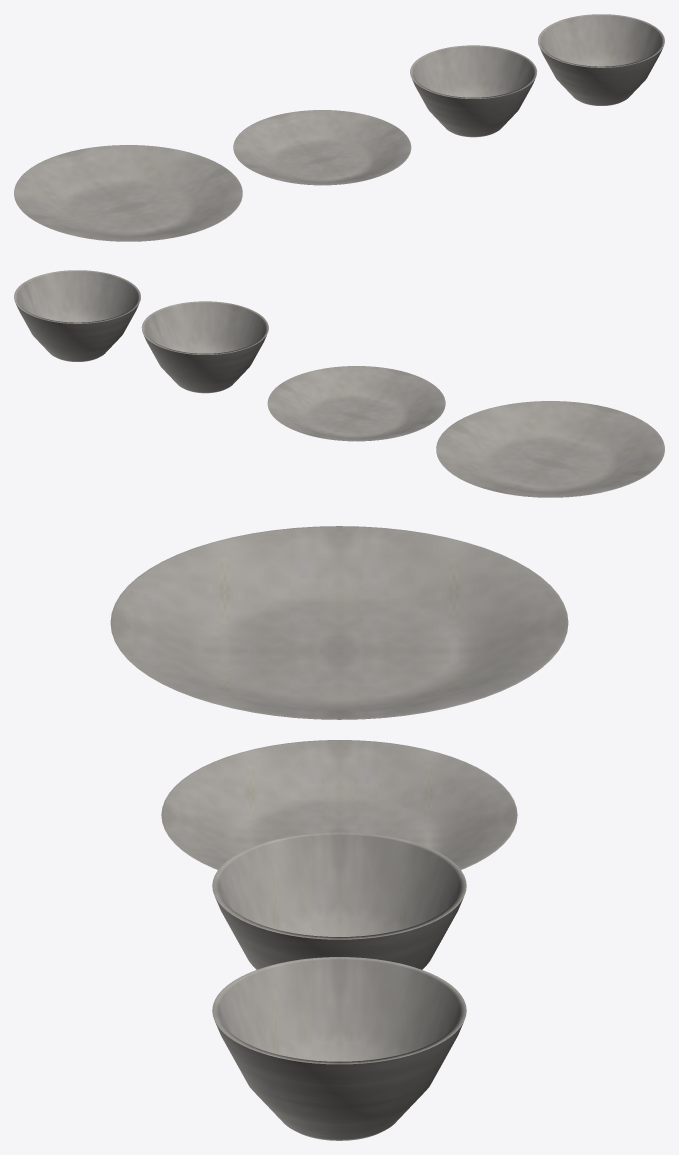
Rendered from GRL-03.glb.
The picture shows the model from 3 angles, top to bottom: view 1: azimuth 30°, elevation 25°; view 2: azimuth 150°, elevation 25°; view 3: azimuth 270°, elevation 25°; orthographic projection. The views are drawn at different scales.
Size of the model in its own units: 0.854 by 0.07 by 0.27.
Materials: 8 (8 with a texture image).
